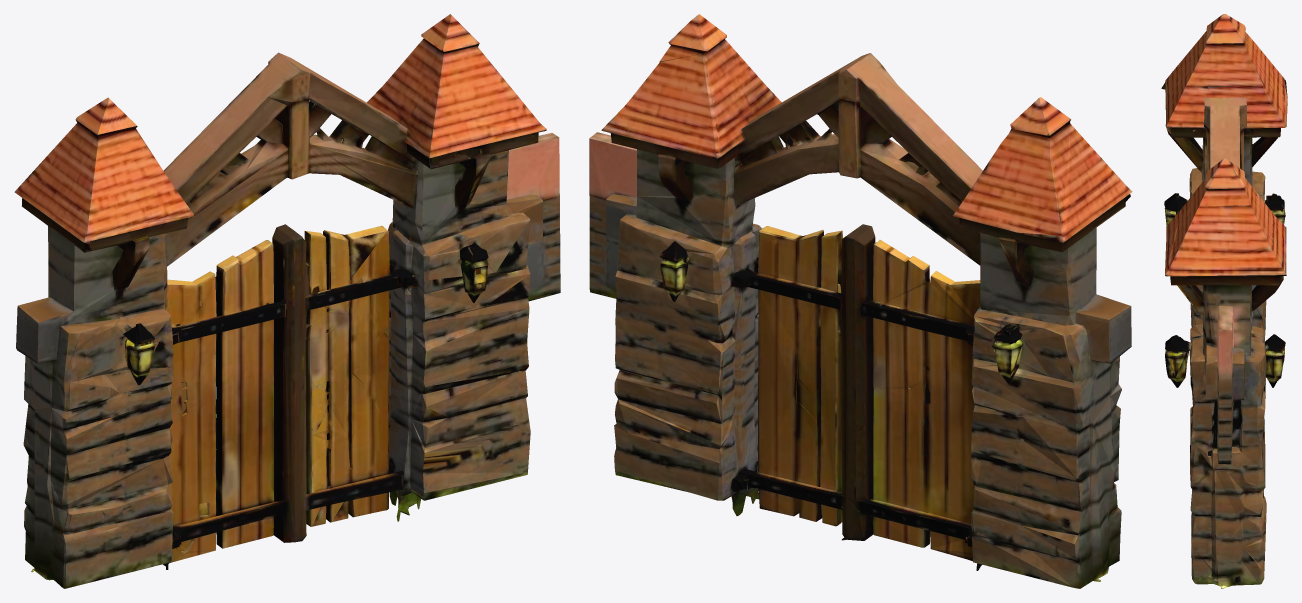
Rendered from village_fence_gate_01.glb.
The picture shows the model from 3 angles, left to right: view 1: azimuth 30°, elevation 25°; view 2: azimuth 150°, elevation 25°; view 3: azimuth 270°, elevation 25°; orthographic projection. The views are drawn at different scales.
Visible parts, largest first — view 1: geometry_0; view 2: geometry_0; view 3: geometry_0.
Part boxes in pixels (x1,y1,x2,y2): geometry_0: [14, 14, 560, 588]; geometry_0: [589, 14, 1132, 588]; geometry_0: [1161, 14, 1287, 588].
Bounding box in the file's own units: 0.9981 × 0.8723 × 0.2387.
Materials: 1 (1 with a texture image).
